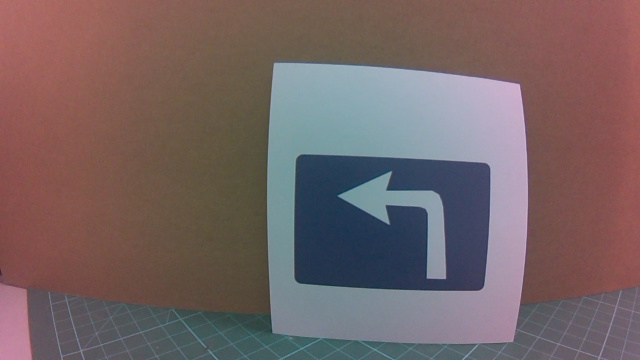left: (281, 143, 519, 303)
